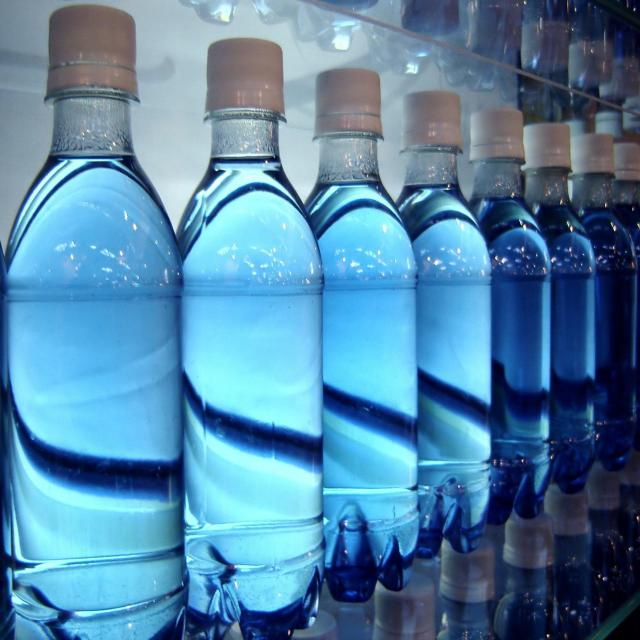plastic_bottle: (5, 3, 195, 640), (170, 24, 330, 640), (402, 76, 498, 583)
